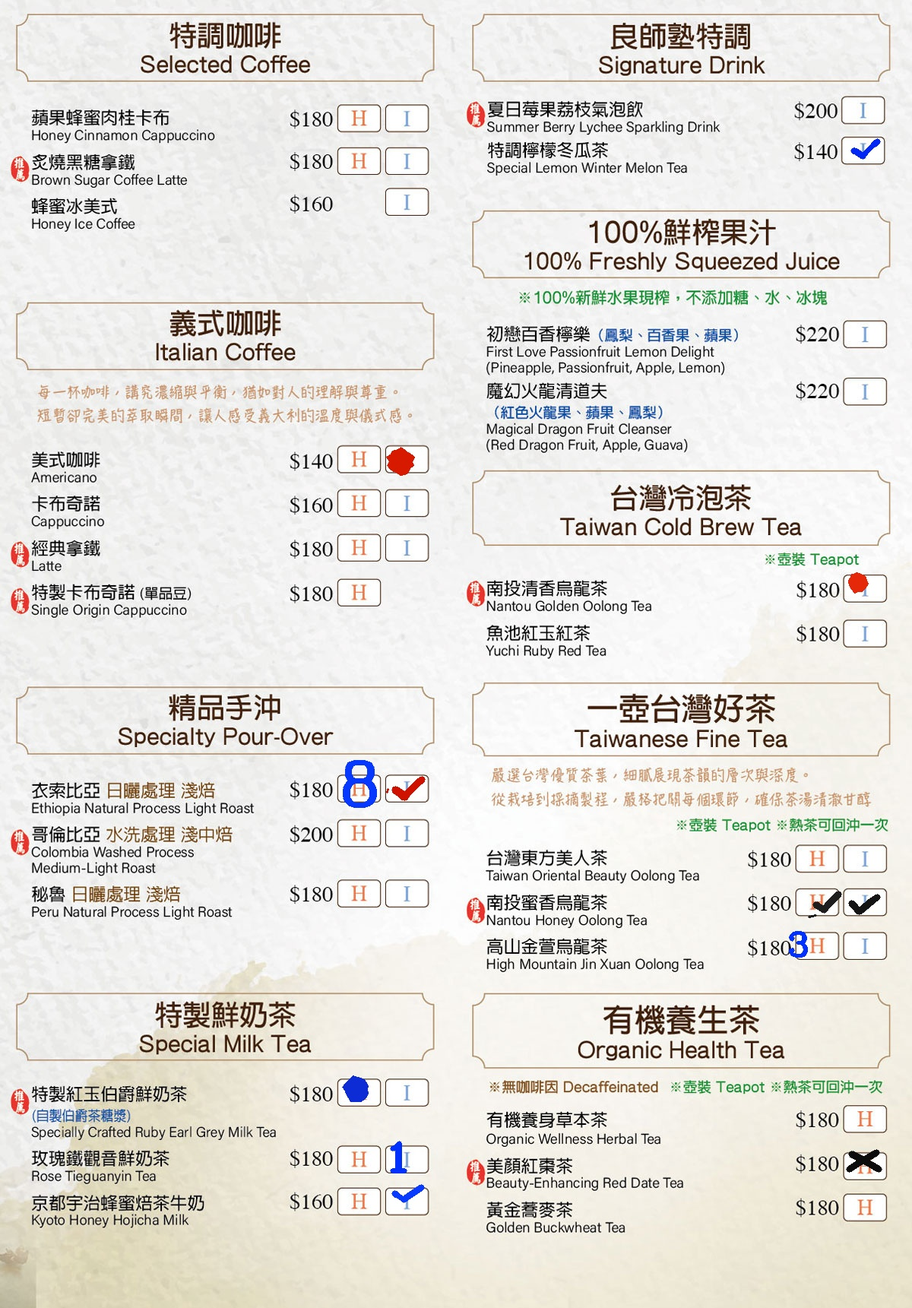marked_circle: (342, 1080, 381, 1104), (846, 576, 885, 600), (388, 446, 426, 470)
marked_number_1: (388, 1148, 426, 1171)
marked_number_3: (798, 933, 837, 956)
marked_number_8: (339, 776, 378, 800)
marked_tick: (844, 890, 883, 914), (842, 138, 881, 162), (387, 775, 426, 799), (799, 892, 838, 915), (387, 1189, 426, 1212)
marked_x: (846, 1153, 885, 1177)
